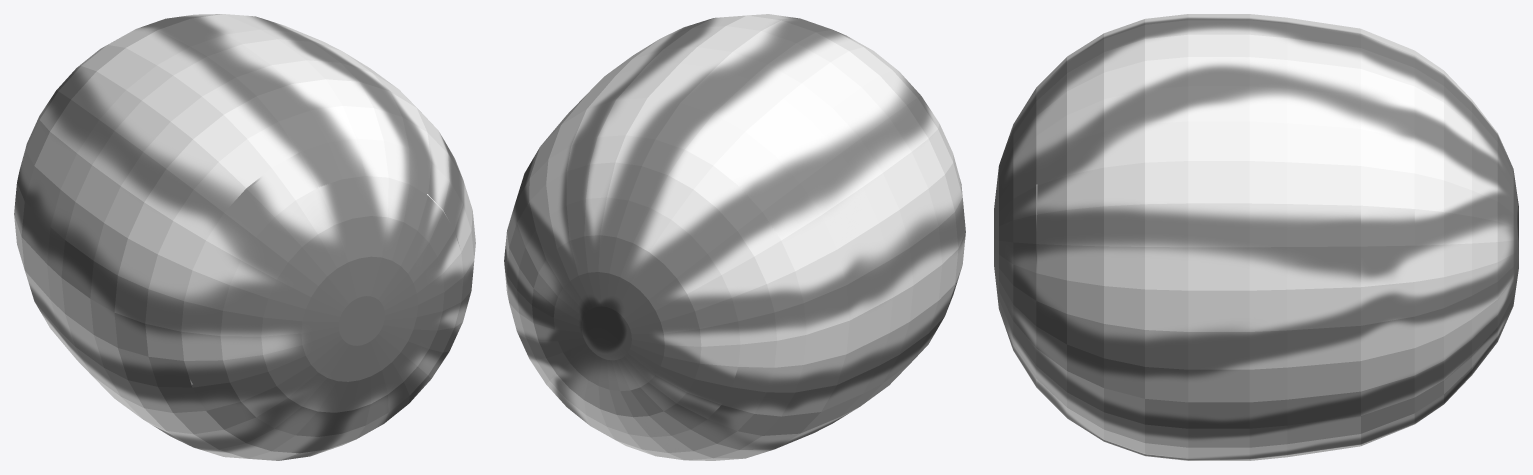
Rendered from watermelon.dae.
3 renders of one model, left to right at view 1: azimuth 30°, elevation 25°; view 2: azimuth 150°, elevation 25°; view 3: azimuth 270°, elevation 25°, orthographic. The views are drawn at different scales.
Visible parts, largest first — view 1: Cylinder; view 2: Cylinder; view 3: Cylinder.
Boxes of the visible parts, bbox=[...] form: Cylinder: bbox=[14, 14, 475, 460]; Cylinder: bbox=[504, 14, 965, 460]; Cylinder: bbox=[994, 14, 1518, 460].
Bounding box in the file's own units: 0.6 × 0.7039 × 0.6.
